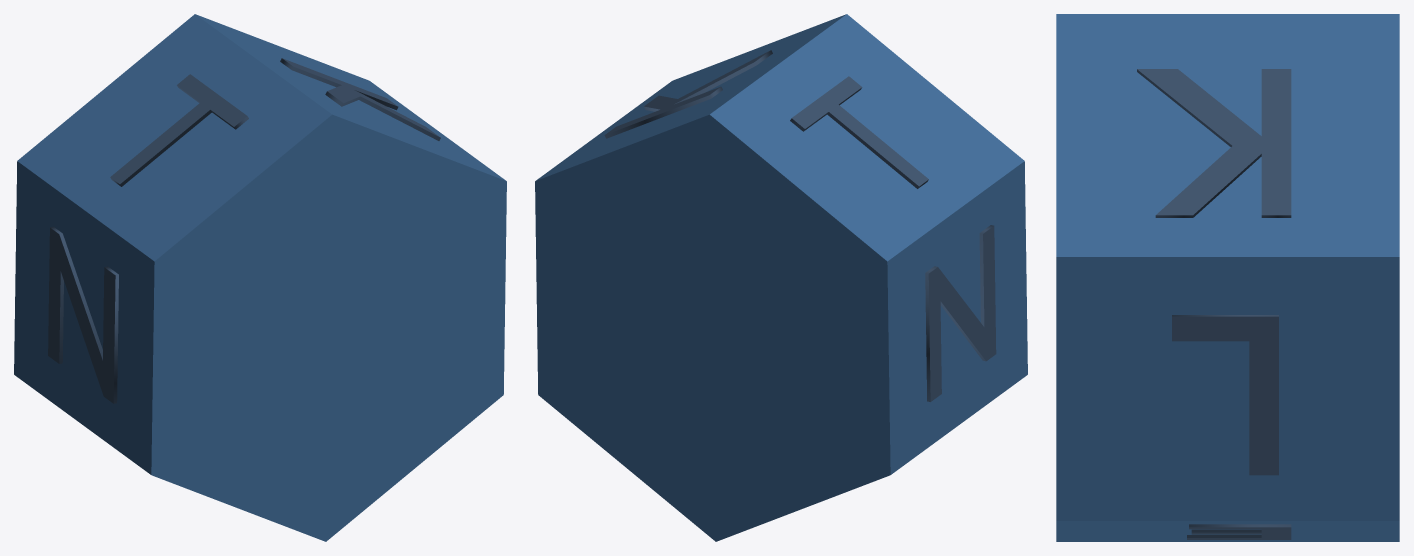
File: CodigoLetraAzul.fbx
The picture shows the model from 3 angles, left to right: view 1: azimuth 30°, elevation 25°; view 2: azimuth 150°, elevation 25°; view 3: azimuth 270°, elevation 25°; orthographic projection. The views are drawn at different scales.
Visible parts, largest first — view 1: Text.018; view 2: Text.018; view 3: Text.018.
Part boxes in pixels (<box>): Text.018: <box>14,14,506,541</box>; Text.018: <box>535,14,1027,541</box>; Text.018: <box>1056,14,1399,541</box>.
Size of the model in its own units: 11.15 by 12.58 by 7.36.
